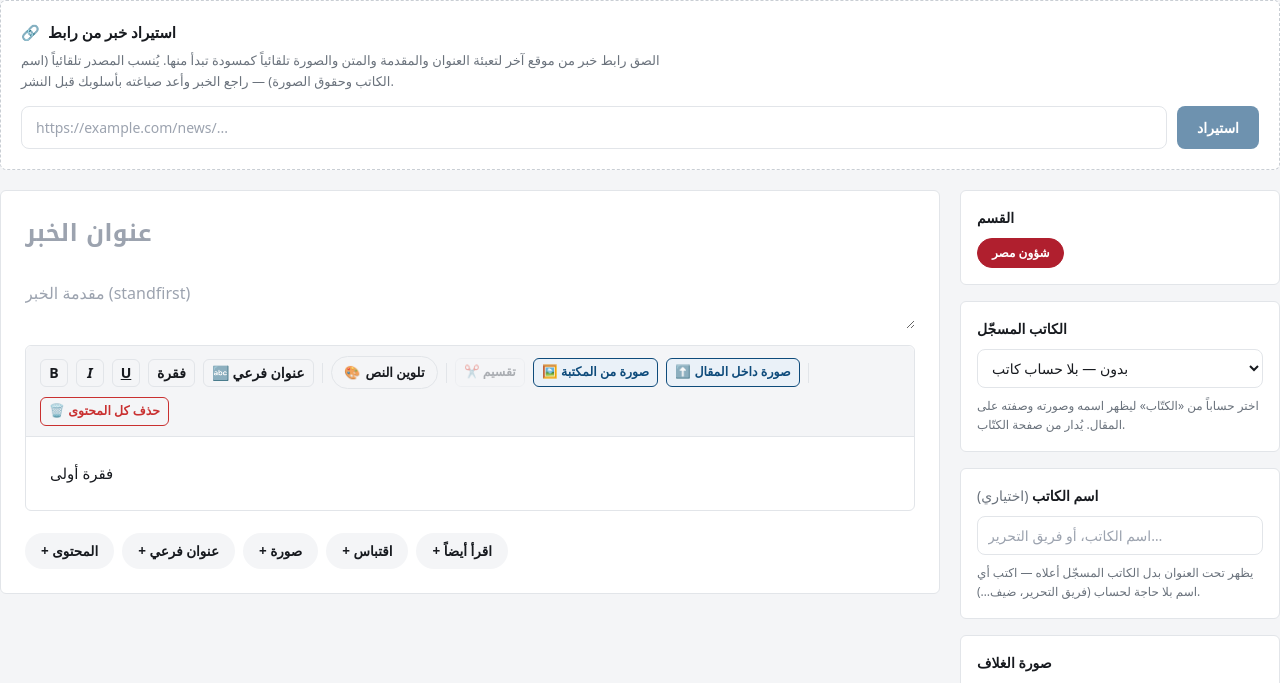
ArticleEditorForm bulk delete › clears every block back to one empty paragraph, after confirming
The image size is (1280, 683).
Clear the field named "نص الفقرة" at (82, 473), box [50, 463, 113, 483]
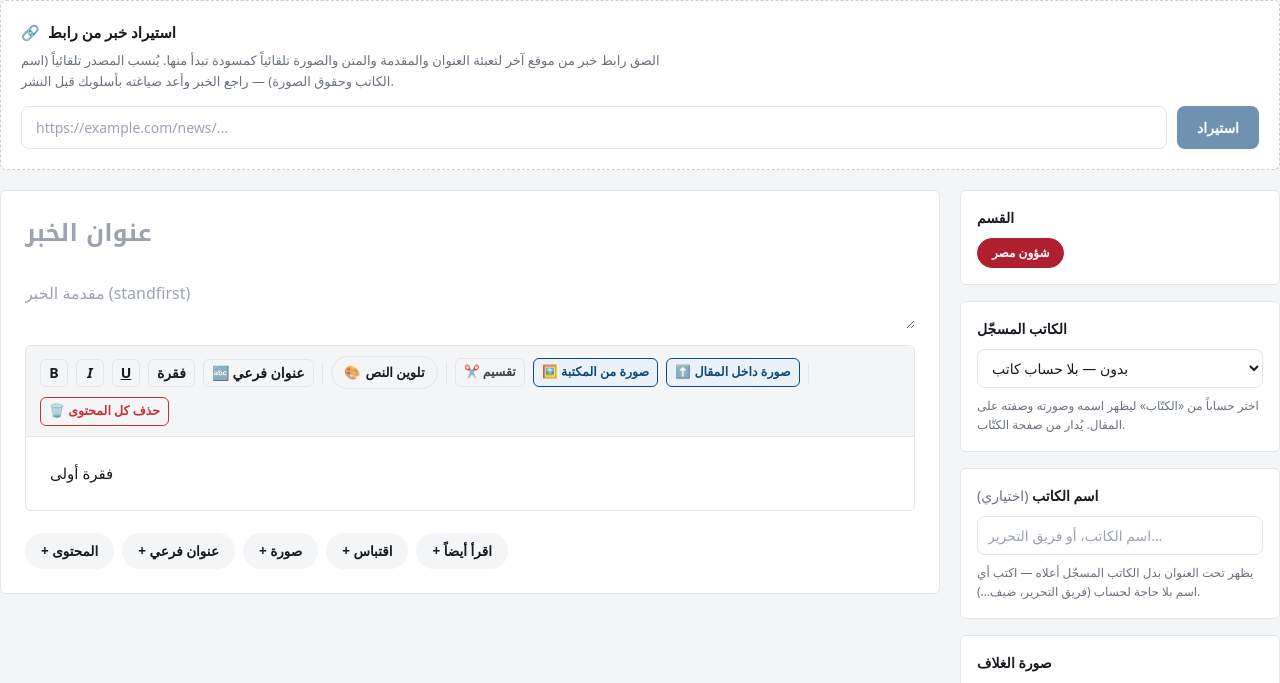
Click the button "+ المحتوى" at (70, 551), box [25, 532, 114, 569]
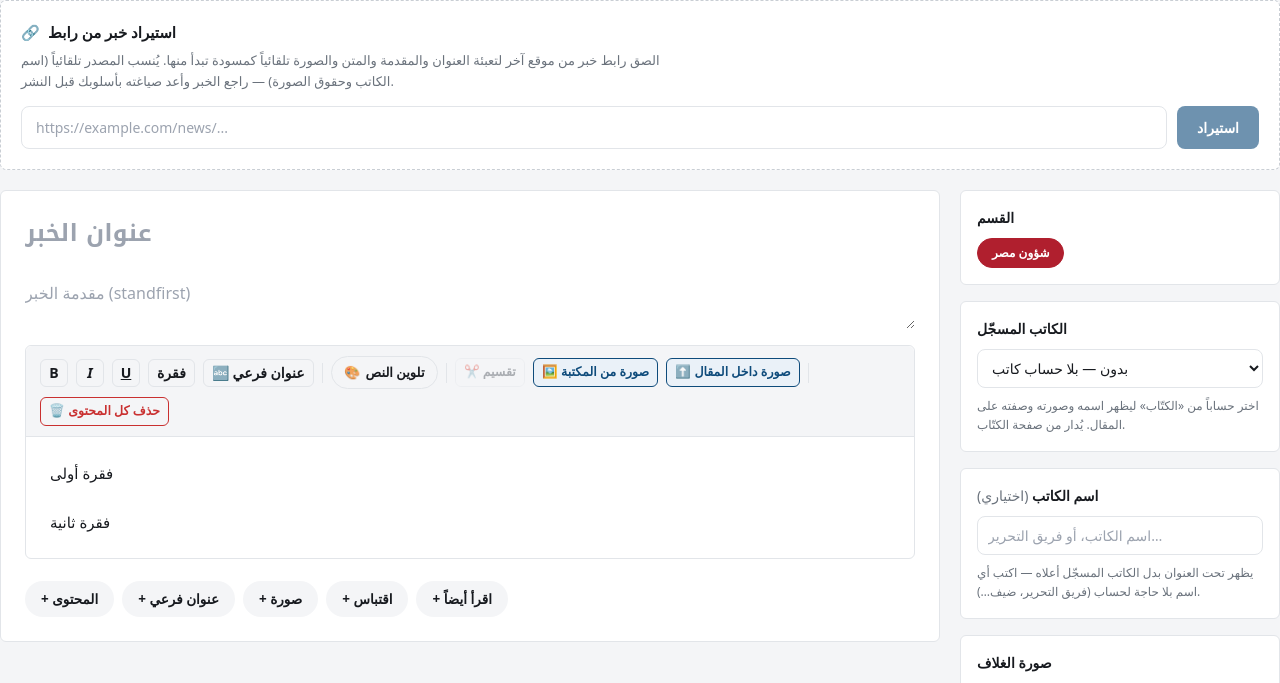
Clear the field named "نص الفقرة" at (80, 522), box [50, 512, 110, 532]
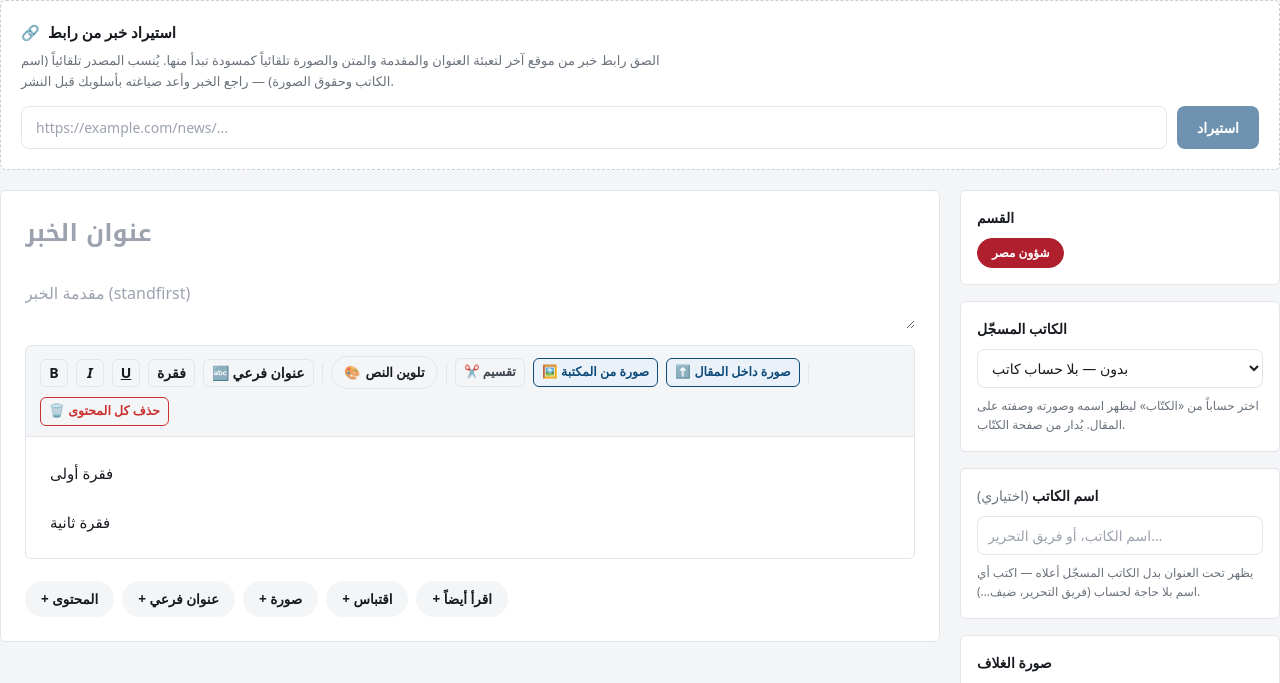
expect the number of fields named "نص الفقرة" is 2: met, box [50, 463, 113, 483]; [50, 512, 110, 532]
Click the button titled "مسح كل فقرات وصور الخبر دفعة واحدة" at (104, 412), box [40, 397, 169, 426]
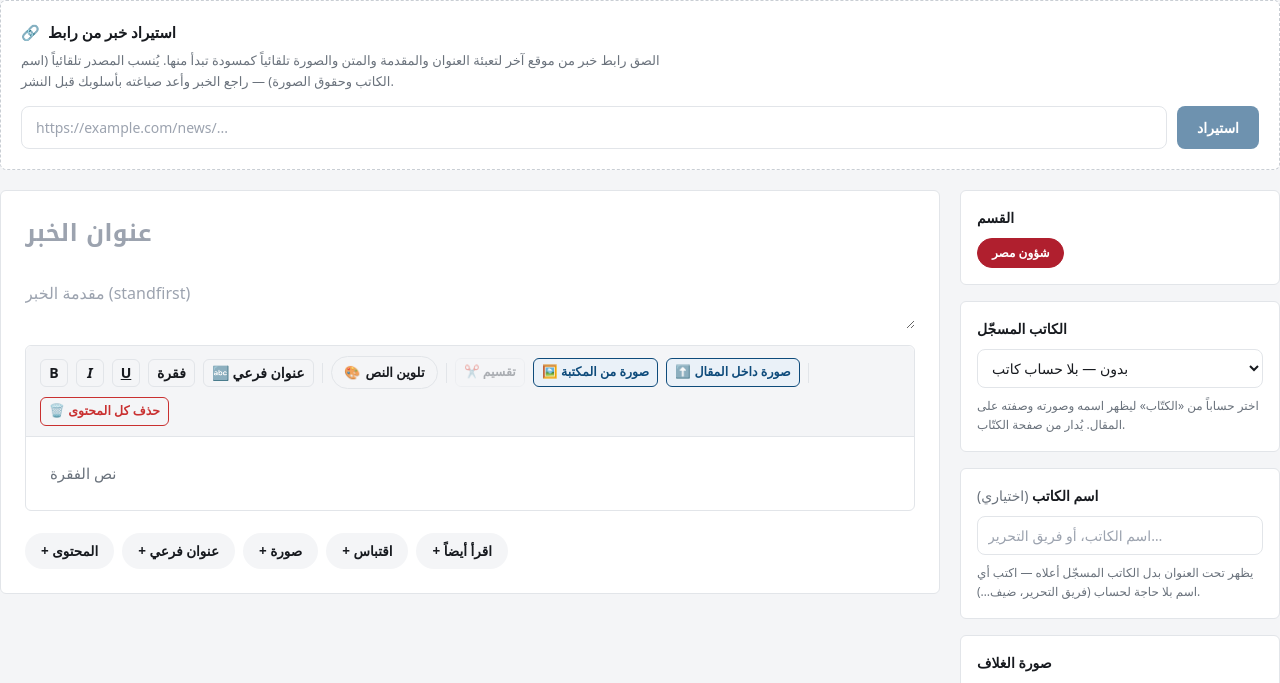
expect the number of fields named "نص الفقرة" is 1: met, box [40, 449, 900, 498]
expect the field named "نص الفقرة" is empty: met, box [40, 449, 900, 498]
